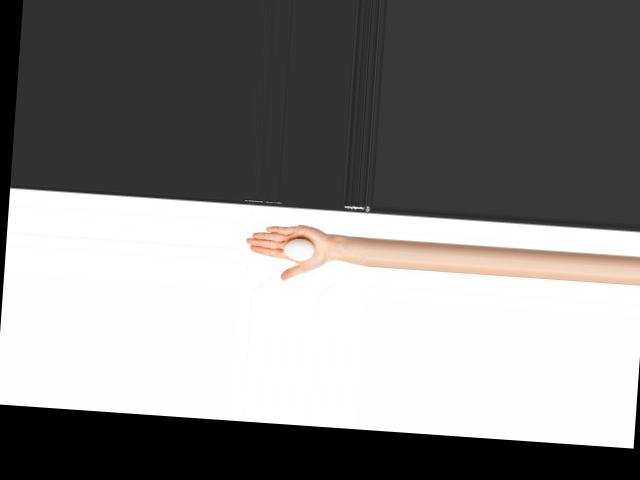egg: (283, 238, 314, 260)
